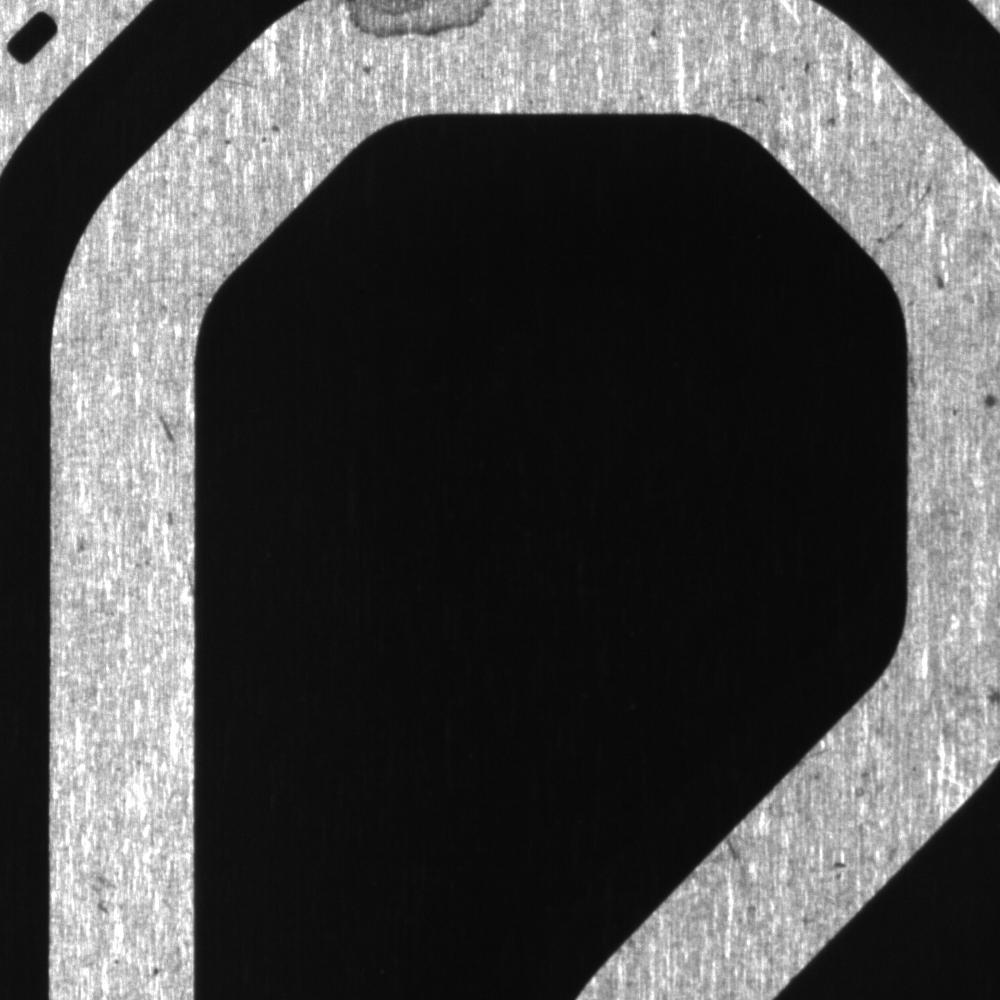Discolor: (325, 1, 514, 44)
Etching: (751, 55, 873, 128), (144, 387, 185, 473), (962, 374, 998, 429), (925, 259, 961, 301)
Scar: (875, 176, 939, 249)
